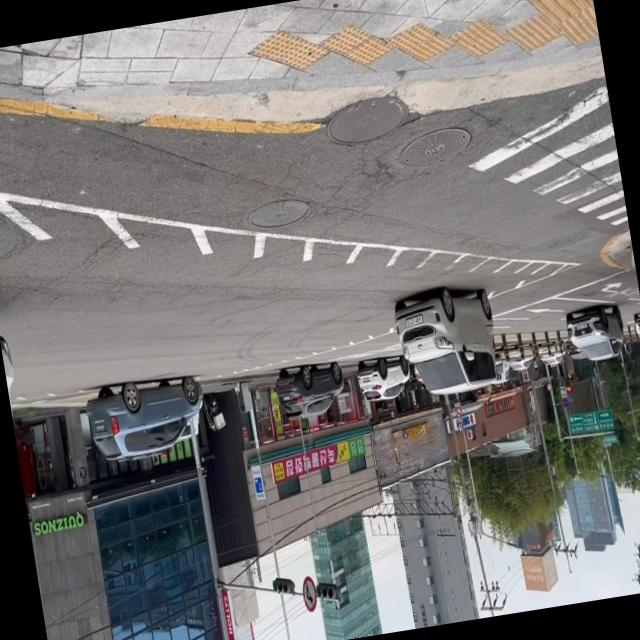building: (388, 460, 479, 630), (306, 510, 383, 640)
car: (392, 258, 512, 417), (82, 371, 211, 466), (272, 359, 349, 423), (564, 302, 628, 366)
